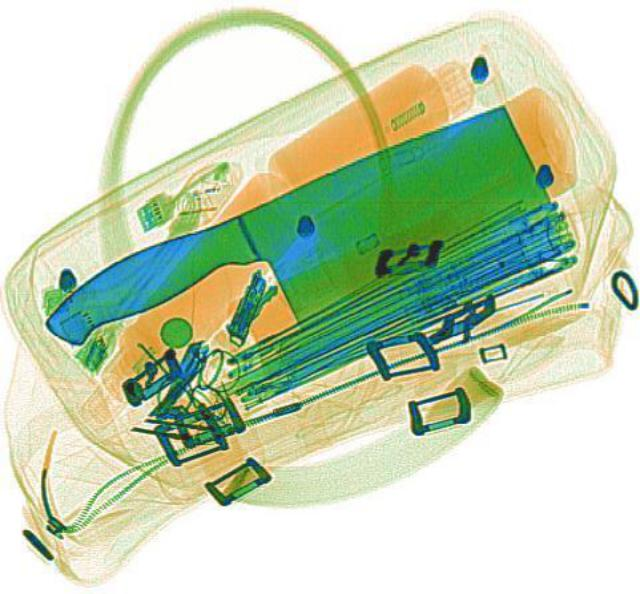Knife: (27, 97, 570, 417)
